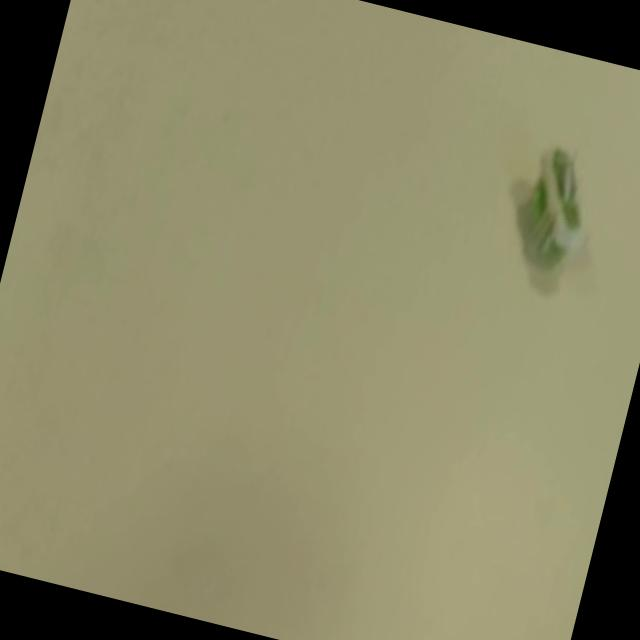4_NanoBug_Blanco: (474, 97, 640, 288)
